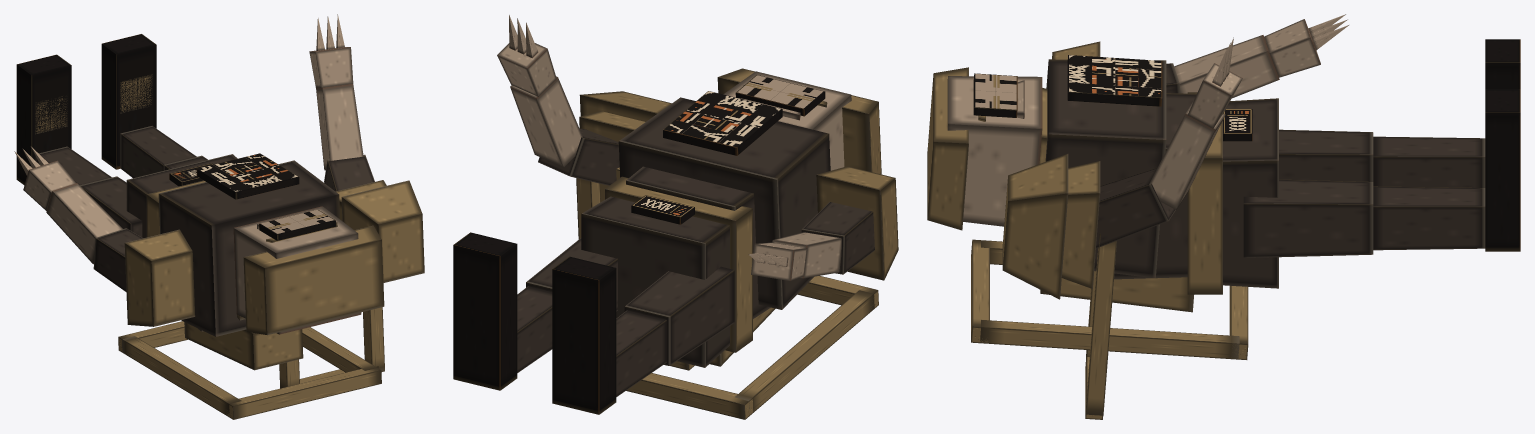
File: jurisiel_neutral.obj
3 renders of one model, left to right at view 1: azimuth 30°, elevation 25°; view 2: azimuth 150°, elevation 25°; view 3: azimuth 270°, elevation 25°, orthographic. The views are drawn at different scales.
Visible parts, largest first — view 1: jurisiel_neutral; view 2: jurisiel_neutral; view 3: jurisiel_neutral.
Boxes of the visible parts, x1,y1,x2,y2 form: jurisiel_neutral: [14, 14, 424, 419]; jurisiel_neutral: [453, 15, 898, 419]; jurisiel_neutral: [927, 14, 1520, 419].
Size of the model in its own units: 0.6715 by 0.7137 by 1.
Materials: 1 (1 with a texture image).
